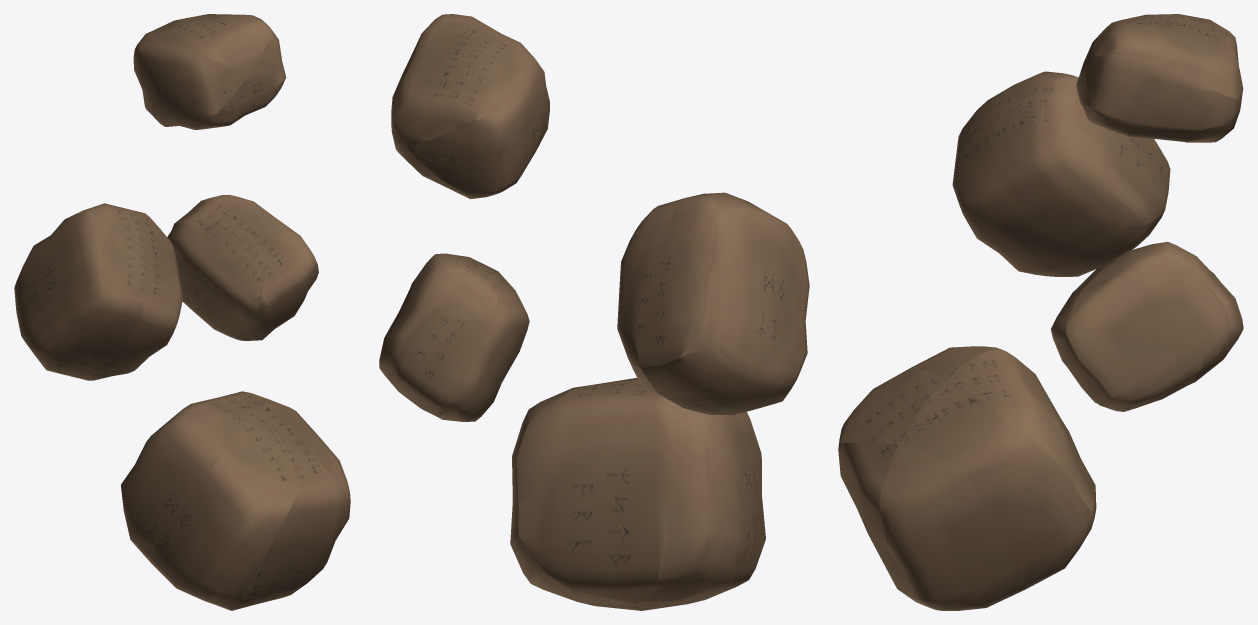
The model's file is escombro roto.fbx.
3 views of the same model, side by side, from view 1: azimuth 30°, elevation 25°; view 2: azimuth 150°, elevation 25°; view 3: azimuth 270°, elevation 25° (orthographic). The views are drawn at different scales.
Visible parts, largest first — view 1: polySurface1, polySurface7, polySurface4, polySurface17, polySurface2, polySurface14, polySurface9, polySurface16, polySurface8, polySurface18, polySurface20, polySurface13 (+6 smaller); view 2: polySurface5, polySurface9, polySurface4, polySurface20, polySurface16, polySurface14, polySurface10, polySurface17, polySurface7, polySurface11, polySurface6, polySurface1 (+1 smaller); view 3: polySurface6, polySurface3, polySurface19, polySurface12, polySurface20, polySurface11, polySurface15, polySurface16, polySurface8, polySurface5, polySurface1, polySurface2 (+6 smaller).
Part boxes in pixels (x1,y1,x2,y2): polySurface1: (147,421,312,610); polySurface7: (18,256,144,380); polySurface4: (121,408,248,557); polySurface17: (169,222,269,340); polySurface2: (234,458,346,610); polySurface14: (133,37,248,126); polySurface9: (14,208,143,322); polySurface16: (143,14,272,72); polySurface8: (91,260,182,380); polySurface18: (242,238,317,340); polySurface20: (167,195,270,238); polySurface13: (172,69,283,129); polySurface5: (515,380,671,602); polySurface9: (642,192,784,412); polySurface4: (641,398,753,602); polySurface20: (379,253,497,413); polySurface16: (392,14,528,146); polySurface14: (408,50,549,196); polySurface10: (639,196,719,371); polySurface17: (418,261,529,421); polySurface7: (695,213,809,415); polySurface11: (617,198,683,371); polySurface6: (510,378,639,608); polySurface1: (621,378,765,610); polySurface6: (899,381,1092,589); polySurface3: (879,445,1027,610); polySurface19: (1065,277,1202,403); polySurface12: (987,103,1161,268); polySurface20: (1090,241,1243,385); polySurface11: (1039,101,1164,226); polySurface15: (1085,54,1237,130); polySurface16: (1087,14,1243,108); polySurface8: (952,124,1095,276); polySurface5: (946,349,1096,527); polySurface1: (838,370,946,449); polySurface2: (838,442,939,610).
Size of the model in its own units: 14.86 by 24.2 by 14.76.
